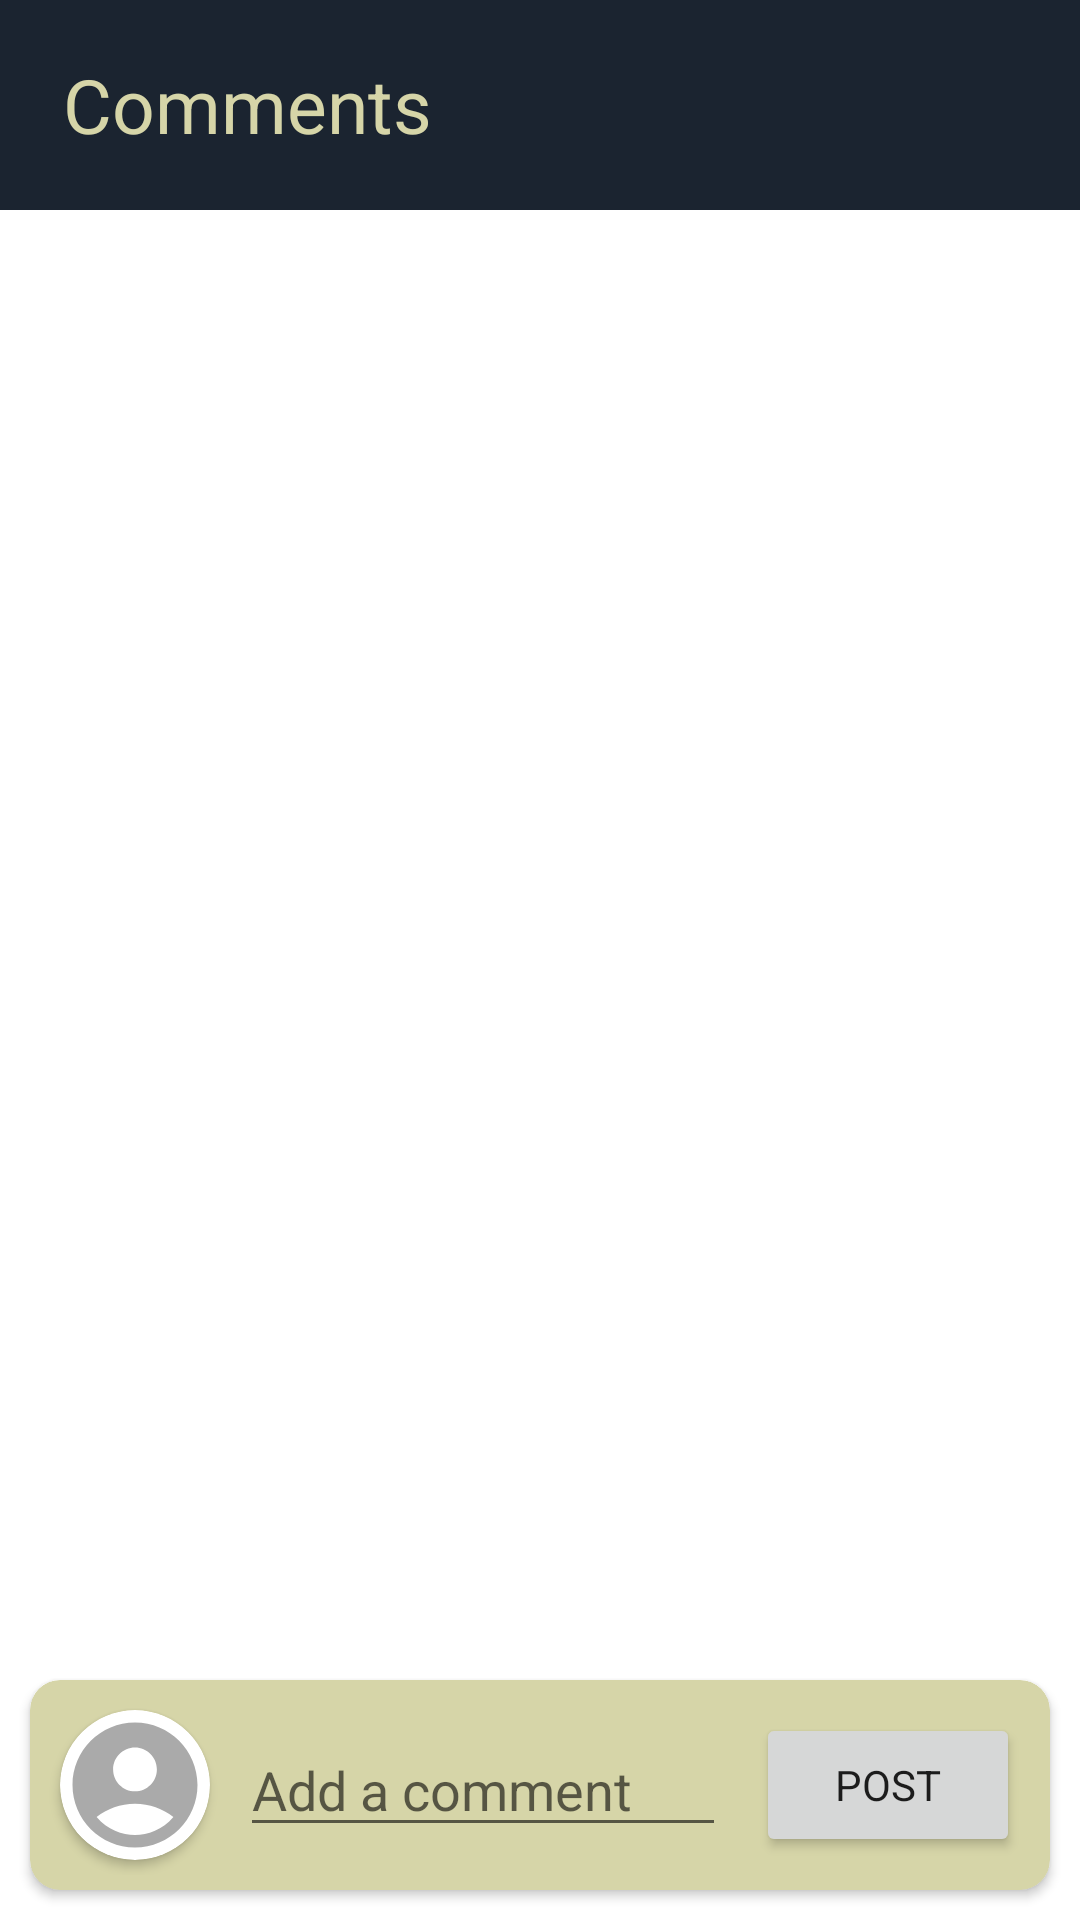

Where icons sit on this 1080 x 1920 app screen, as [x1,y1,x2,y2]:
profile: [60,1710,210,1860]
